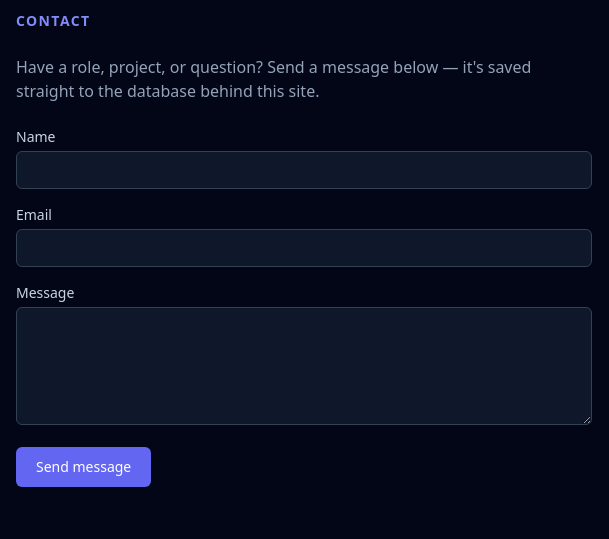
Test: Contact form › submits the entered values and shows a success message
The width and height of the screenshot is (609, 539).
Step 1. Type "Ada Lovelace" into the field labelled "Name" → (304, 170), box [16,151,592,189]
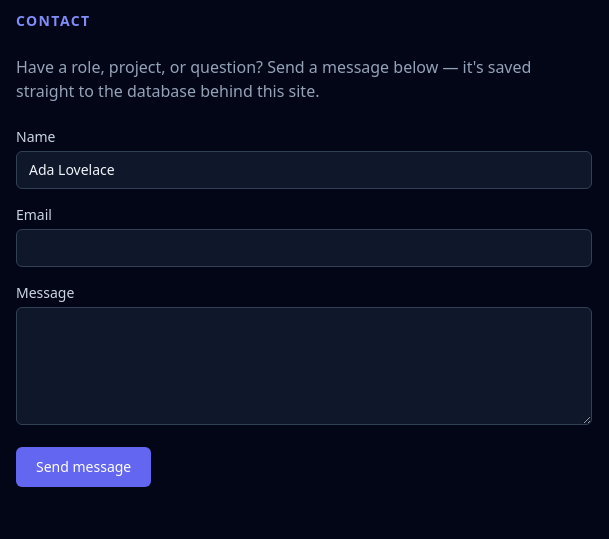
Step 2. Type "ada@example.com" into the field labelled "Email" → (304, 248), box [16,229,592,267]
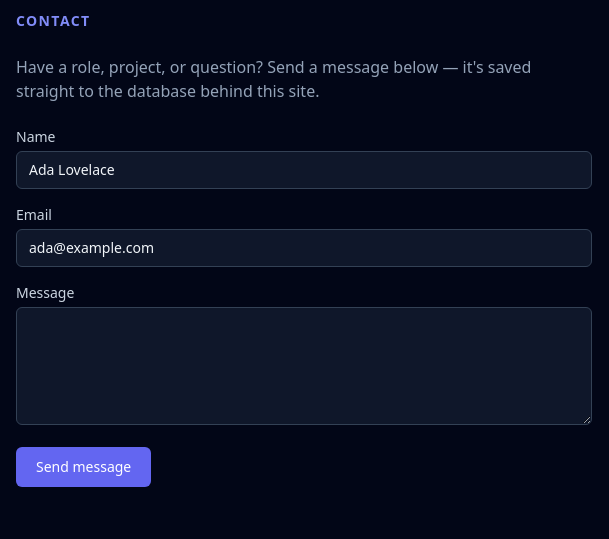
Step 3. Type "Great site!" into the text box labelled "Message" → (304, 366), box [16,307,592,425]
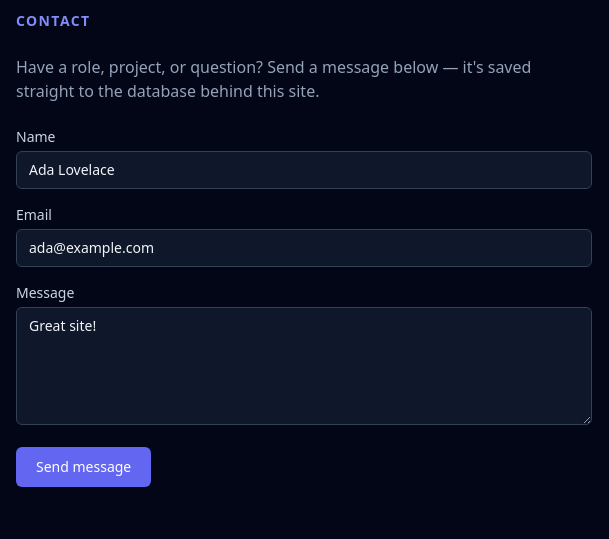
Step 4. Click the button "Send message" → (84, 467), box [16,447,151,487]
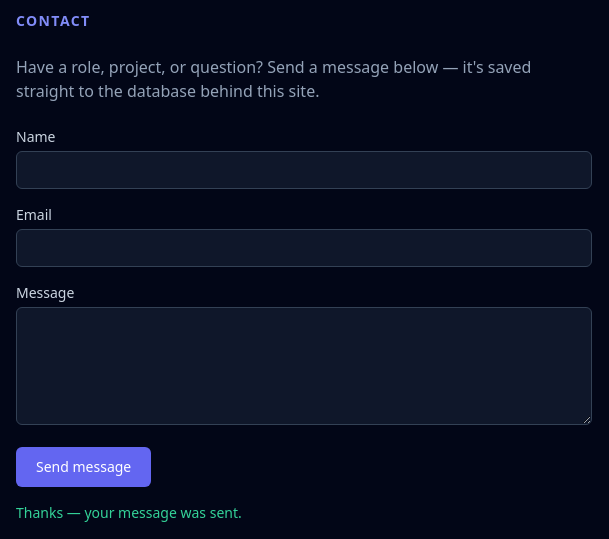
Check: the text "Thanks — your message was sent." is shown, box [16,503,242,522]
